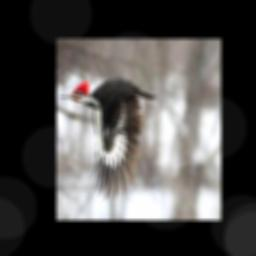Woodpecker: (59, 79, 157, 198)
